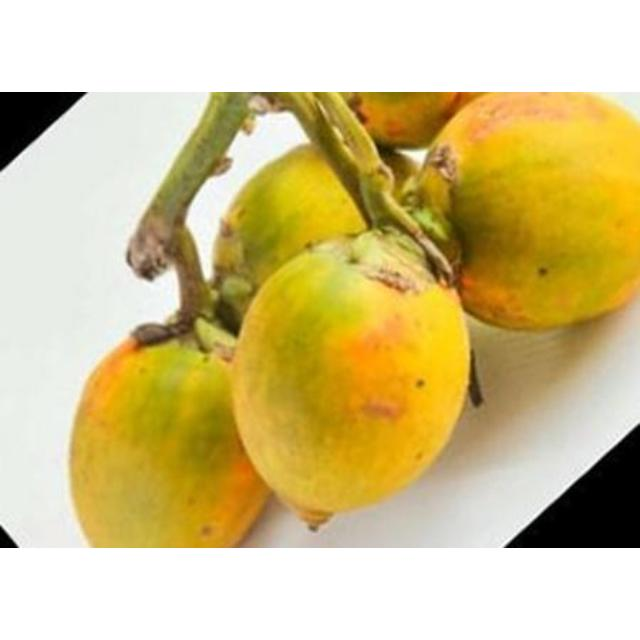good: (231, 236, 467, 526), (424, 94, 640, 328), (67, 321, 269, 547), (215, 142, 392, 312), (344, 94, 488, 150)
